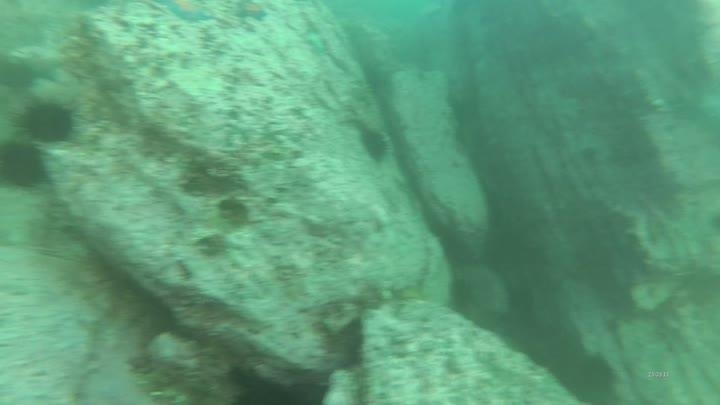echinus: (19, 99, 79, 146), (0, 137, 49, 192), (571, 352, 619, 402), (0, 56, 38, 94), (357, 127, 391, 166)
starfish: (152, 0, 215, 25), (231, 1, 272, 24)
